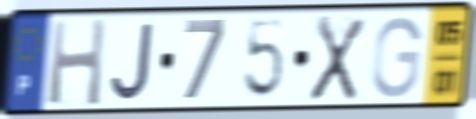5: (239, 17, 288, 102)
7: (180, 16, 231, 105)
G: (369, 14, 425, 101)
H: (46, 15, 109, 110)
J: (108, 20, 157, 102)
X: (306, 13, 368, 104)
